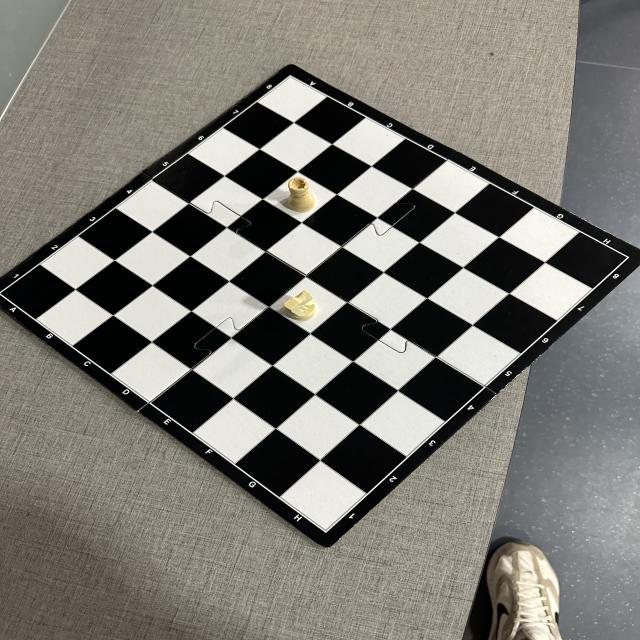White-Knight: (284, 290, 317, 320)
White-Rook: (289, 177, 314, 213)
